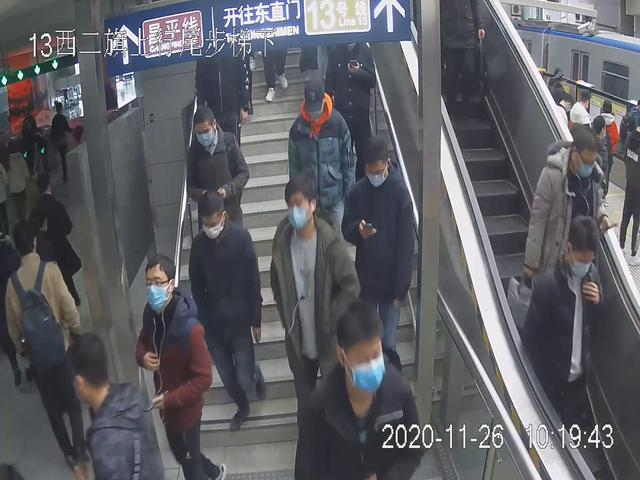person: (262, 173, 358, 439), (1, 221, 90, 480), (134, 250, 224, 480), (187, 191, 271, 431), (522, 213, 610, 441), (339, 130, 417, 377), (522, 113, 611, 324), (283, 73, 357, 264), (187, 104, 249, 265)
